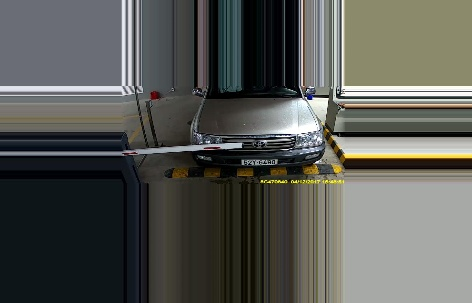plate: (241, 156, 277, 165)
